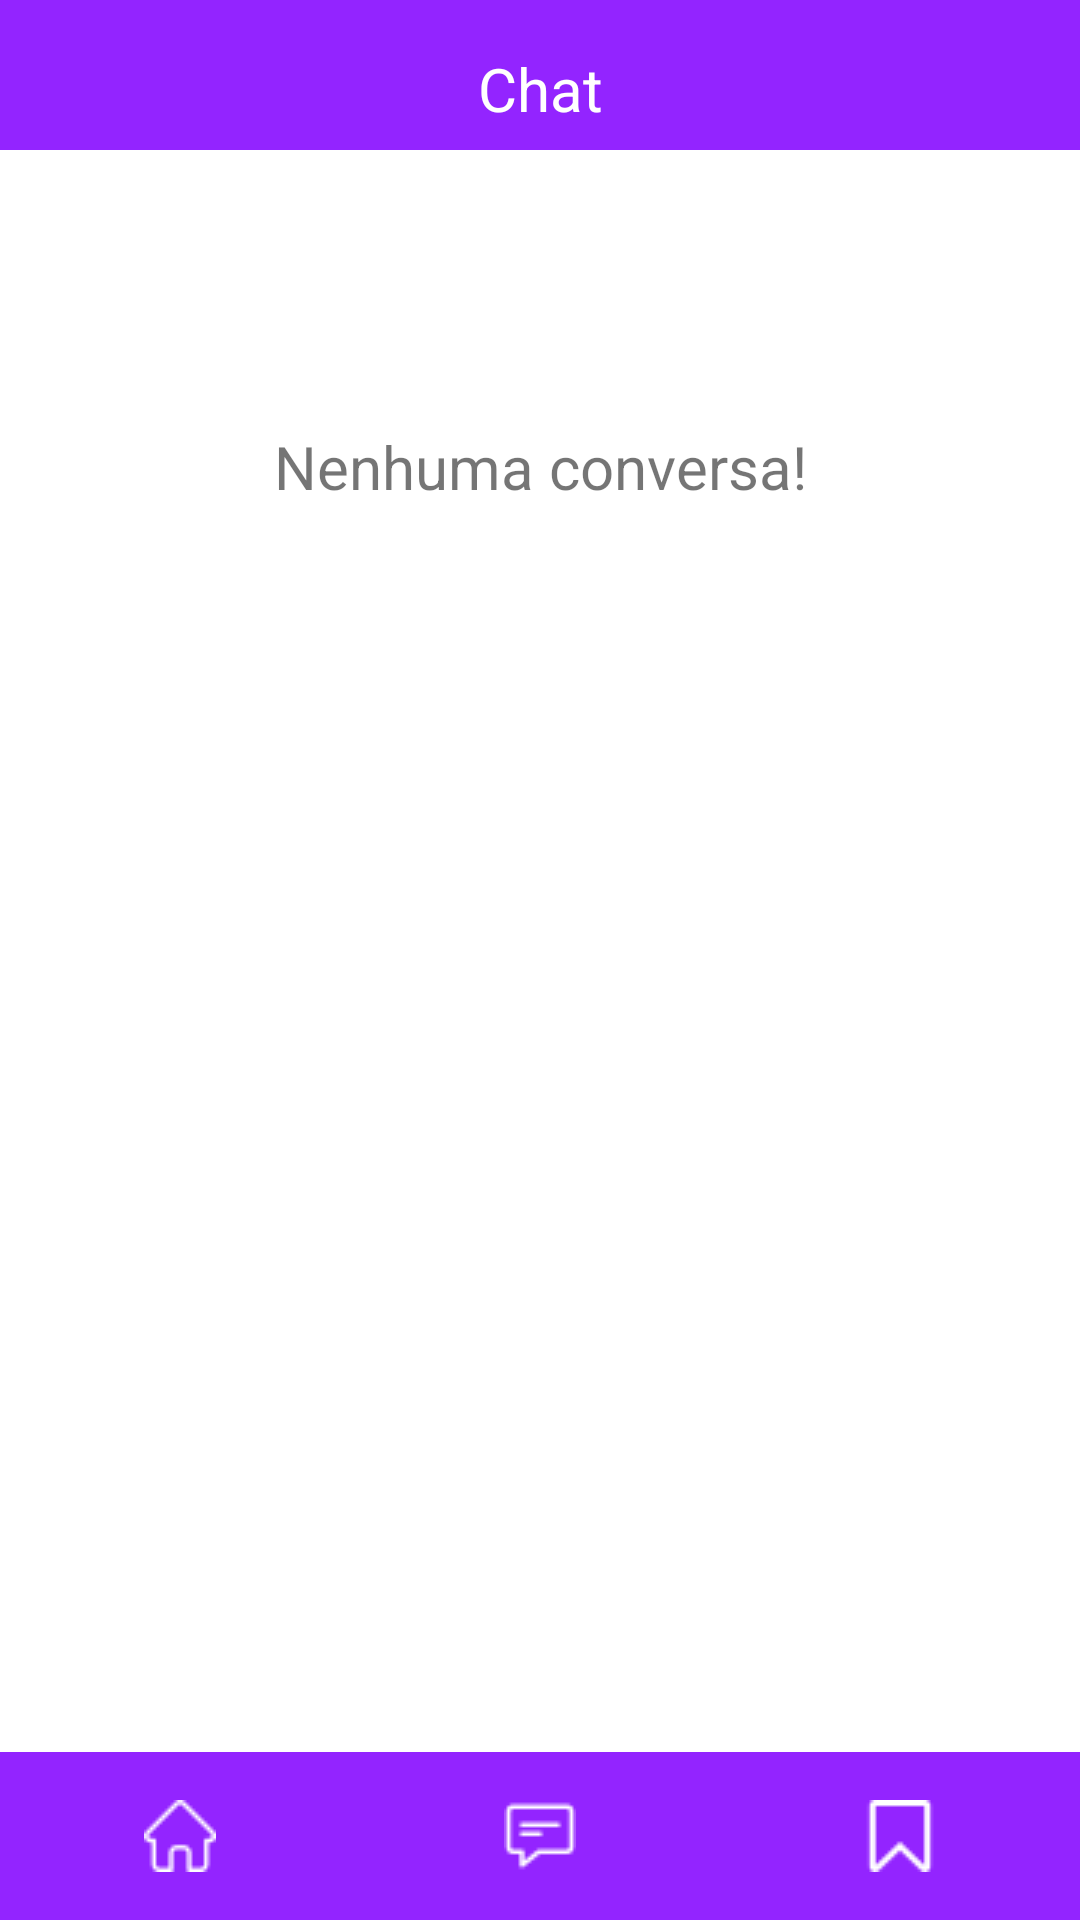

Point at icon controls on the screen. Image size 1080 x 1920, points as point (x, y).
bookmark: point (900, 1836)
comment: point (540, 1835)
home: point (180, 1836)
